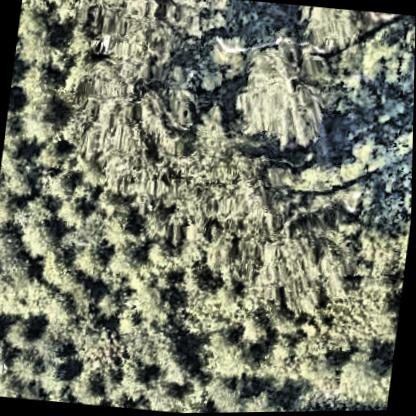tree-top: (224, 33, 350, 150), (11, 10, 71, 81), (293, 4, 374, 54), (195, 327, 259, 381), (10, 206, 65, 267), (16, 94, 68, 146), (351, 341, 392, 382), (32, 141, 68, 178), (56, 195, 90, 230), (1, 314, 39, 345), (3, 167, 38, 200), (12, 349, 47, 382), (40, 356, 76, 387), (44, 166, 77, 197), (81, 243, 111, 277)
